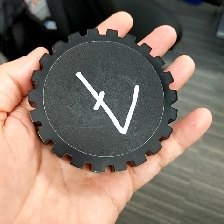gear: (26, 27, 179, 174)
